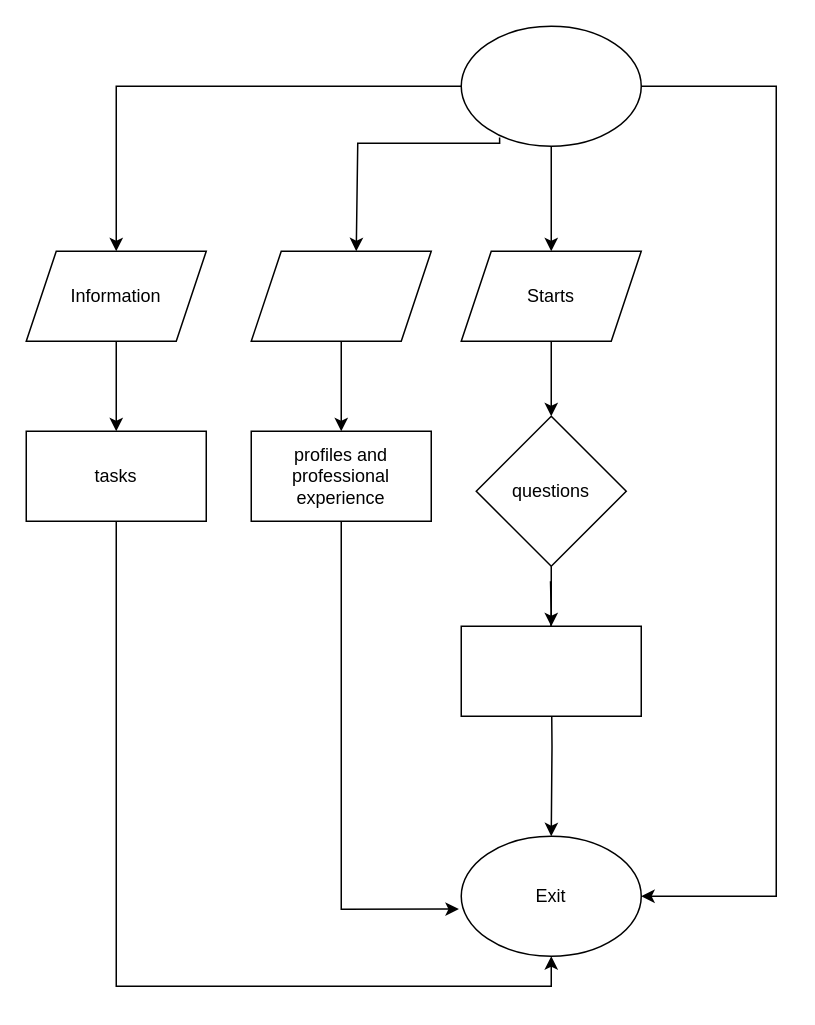
Image size: 815x1025. Some labels were removed from this diagram. Here are the shapes that lost their labels. From the top down, the centre of each, then its label:
At point 550,85: "Main menu".
At point 340,295: "Credits".
At point 550,670: "grade".
